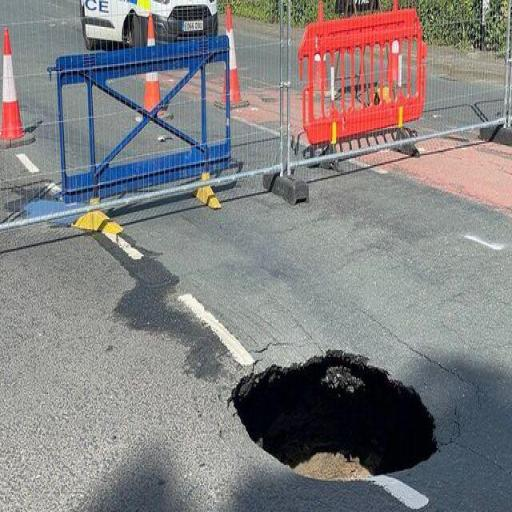Concentric_Crack: (231, 350, 436, 480)
